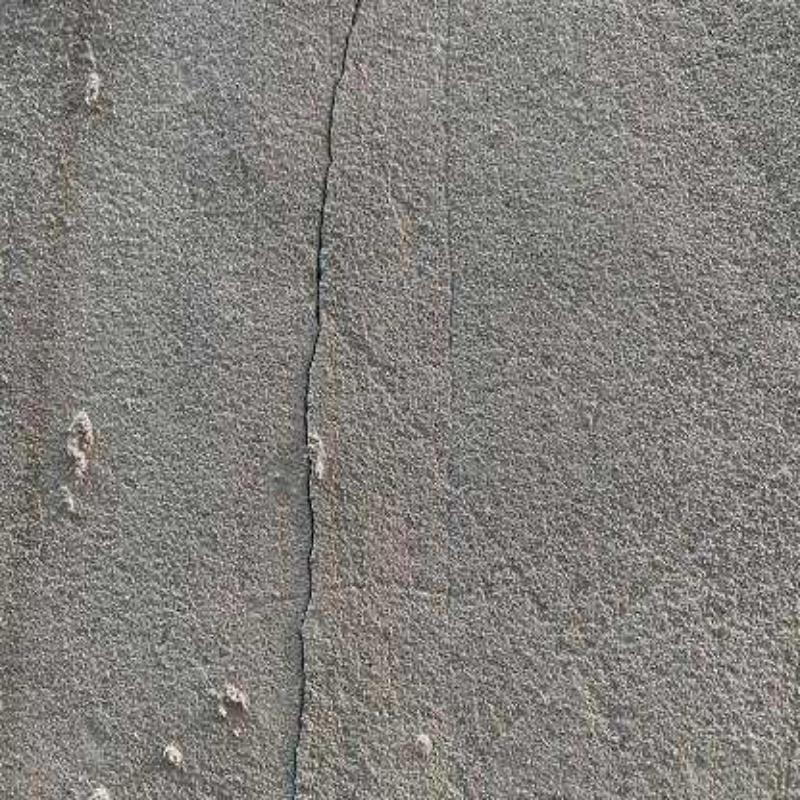crack: (289, 3, 359, 798)
